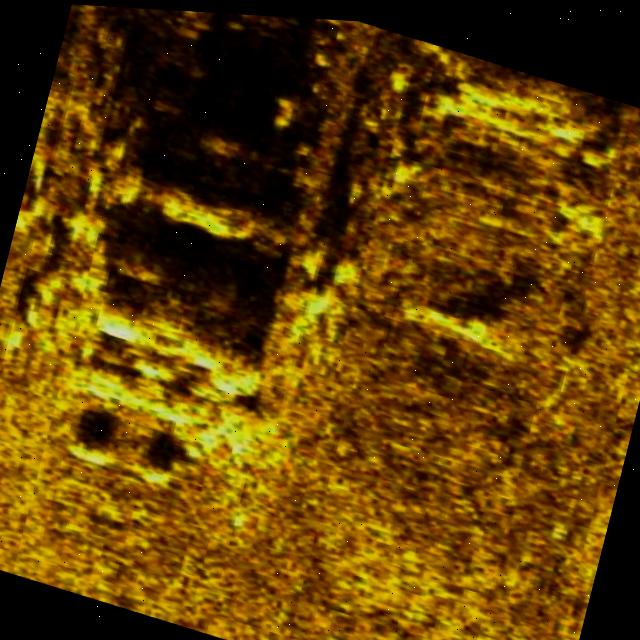bedrock group: (0, 0, 350, 478)
